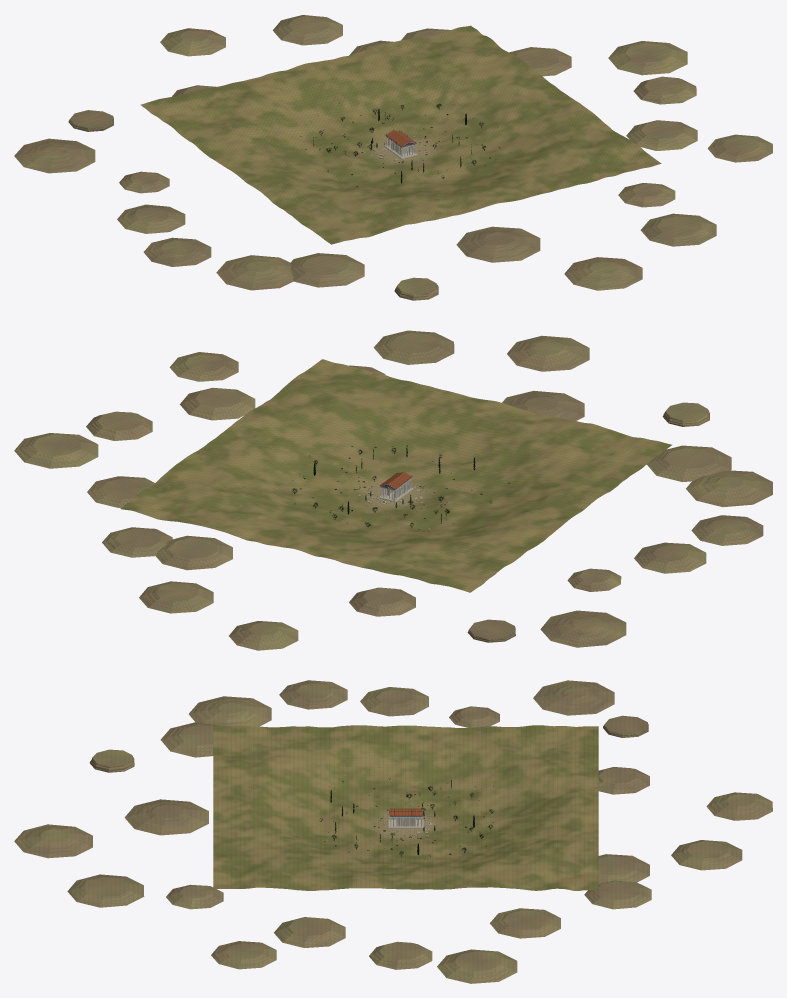
Rendered from priene-athena-tapinagi-baked.glb.
The picture shows the model from 3 angles, top to bottom: view 1: azimuth 30°, elevation 25°; view 2: azimuth 150°, elevation 25°; view 3: azimuth 270°, elevation 25°; orthographic projection. The views are drawn at different scales.
Visible parts, largest first — view 1: priene-athena-tapinagi-terrain, priene-athena-tapinagi-ground, priene-athena-tapinagi-flora, priene-athena-tapinagi-near; view 2: priene-athena-tapinagi-terrain, priene-athena-tapinagi-ground, priene-athena-tapinagi-flora, priene-athena-tapinagi-near; view 3: priene-athena-tapinagi-terrain, priene-athena-tapinagi-ground, priene-athena-tapinagi-near, priene-athena-tapinagi-flora.
Boxes of the visible parts, x1,y1,x2,y2 form: priene-athena-tapinagi-terrain: (140, 25, 661, 244); priene-athena-tapinagi-ground: (14, 15, 772, 300); priene-athena-tapinagi-flora: (285, 98, 510, 191); priene-athena-tapinagi-near: (373, 130, 423, 160); priene-athena-tapinagi-terrain: (120, 359, 671, 592); priene-athena-tapinagi-ground: (14, 330, 772, 650); priene-athena-tapinagi-flora: (279, 438, 521, 535); priene-athena-tapinagi-near: (366, 472, 420, 505); priene-athena-tapinagi-terrain: (213, 725, 598, 890); priene-athena-tapinagi-ground: (14, 680, 772, 983); priene-athena-tapinagi-near: (383, 808, 436, 830); priene-athena-tapinagi-flora: (288, 767, 520, 864).
Bounding box in the file's own units: 805 × 27 × 849.
Materials: 27 (20 with a texture image).
